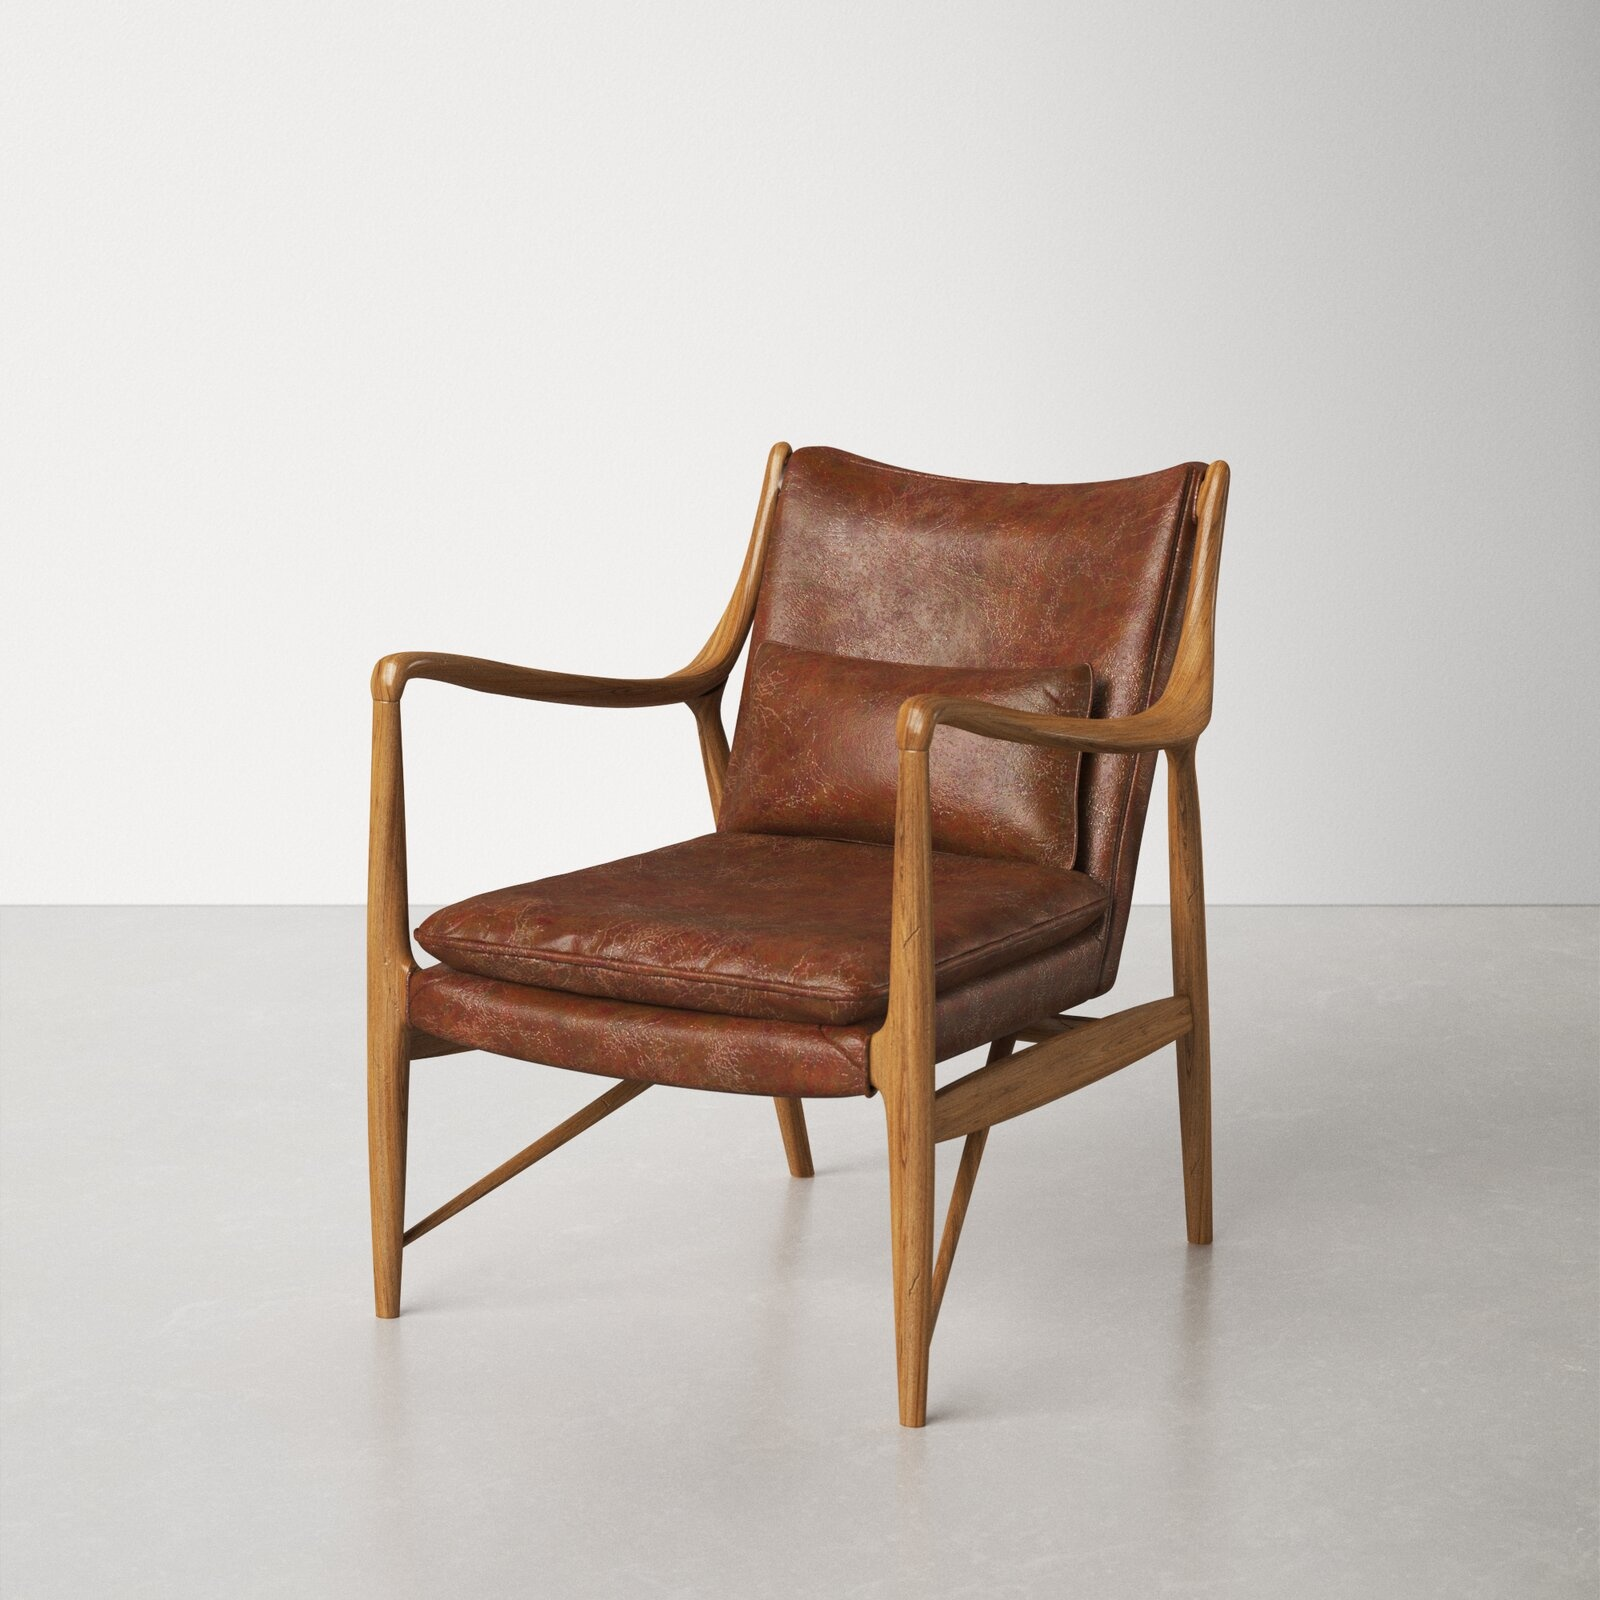obstacle: (368, 444, 1226, 1426)
